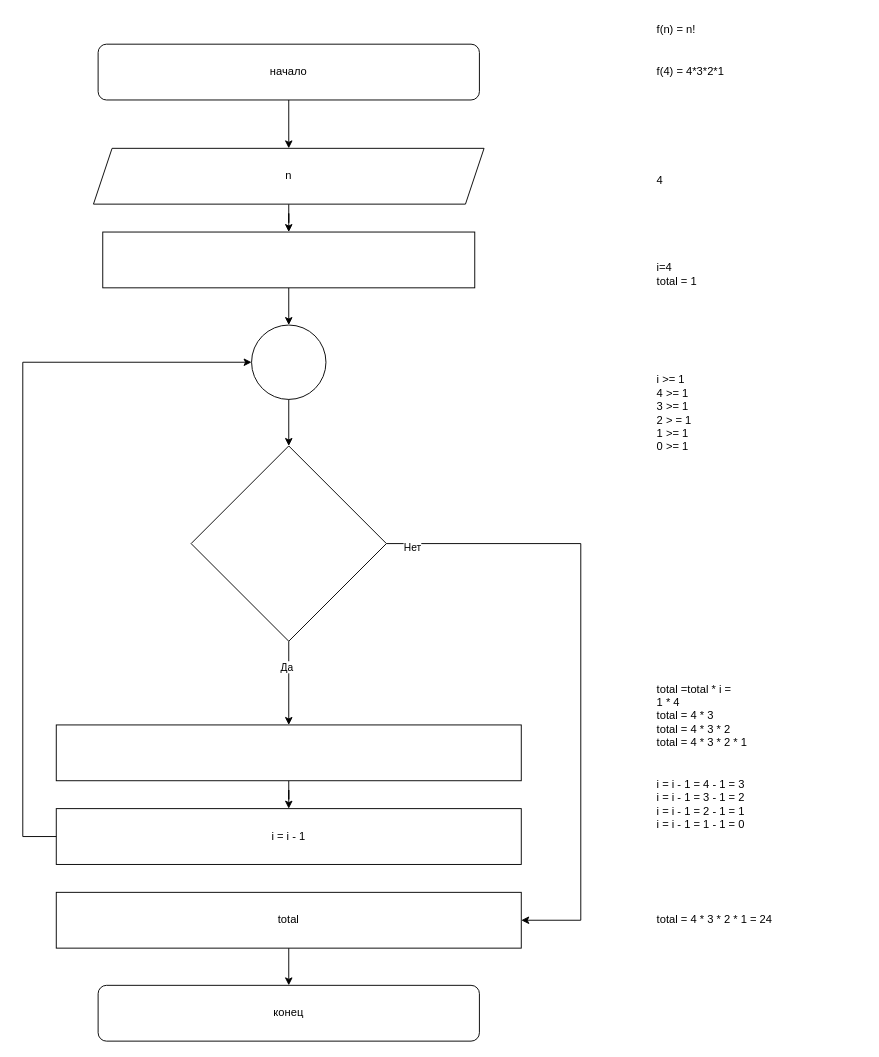
The diagram is 879 pixels wide and 1057 high, and some of its shapes have lost their labels. Here are the shapes that lost their labels. From the top down, the centre of each, then its label:
point 288,259: i=n total = 1
point 288,543: i >= 1
point 288,752: total = total * i
